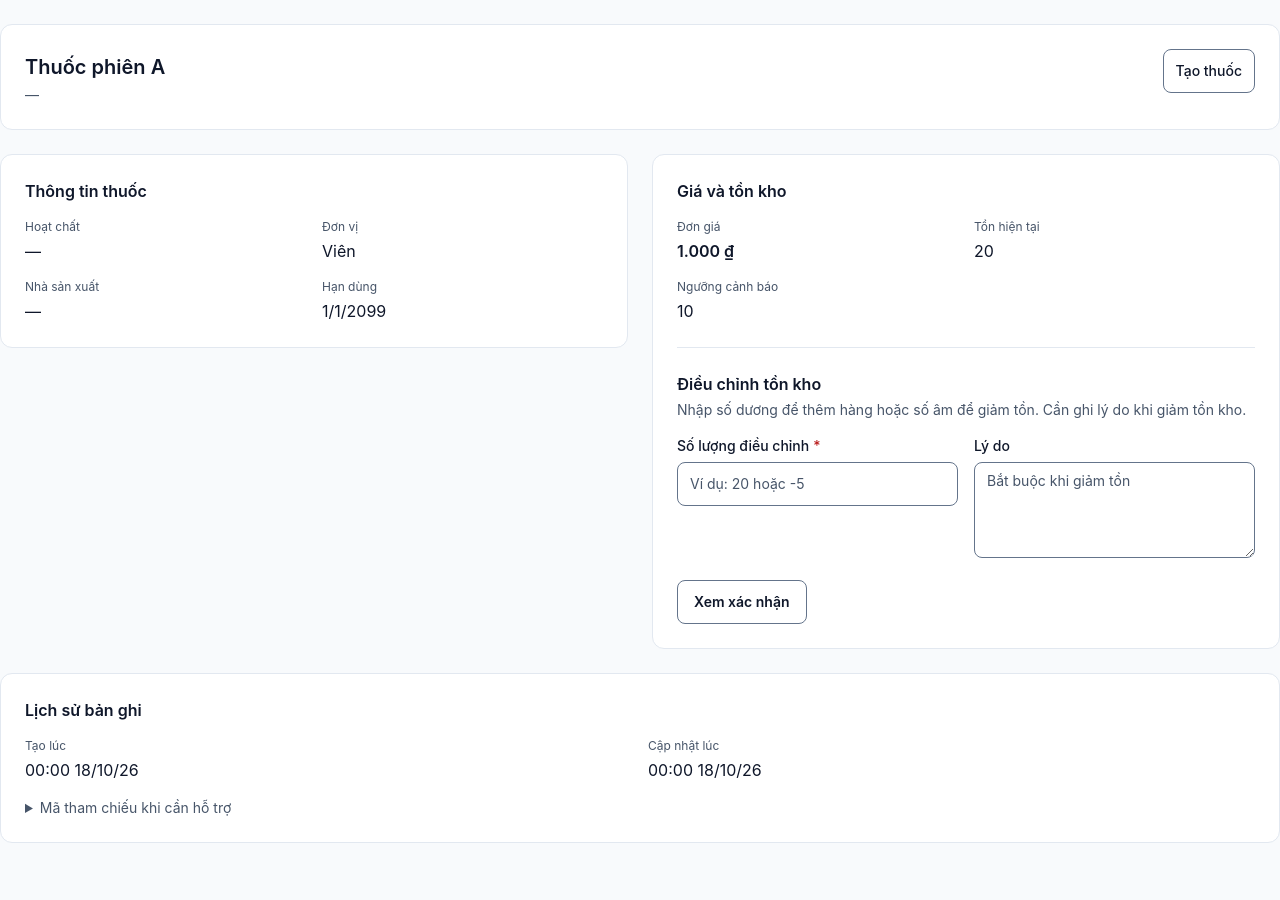
it: Pharmacy session lifecycle › ignores a late uncertain stock failure after the account changes
Expected: the text box labelled "Lý do" is shown, [974,462,1255,558]
Step 1. Type "5" into the number field labelled "Số lượng điều chỉnh" → (818,484), box [677,462,958,506]
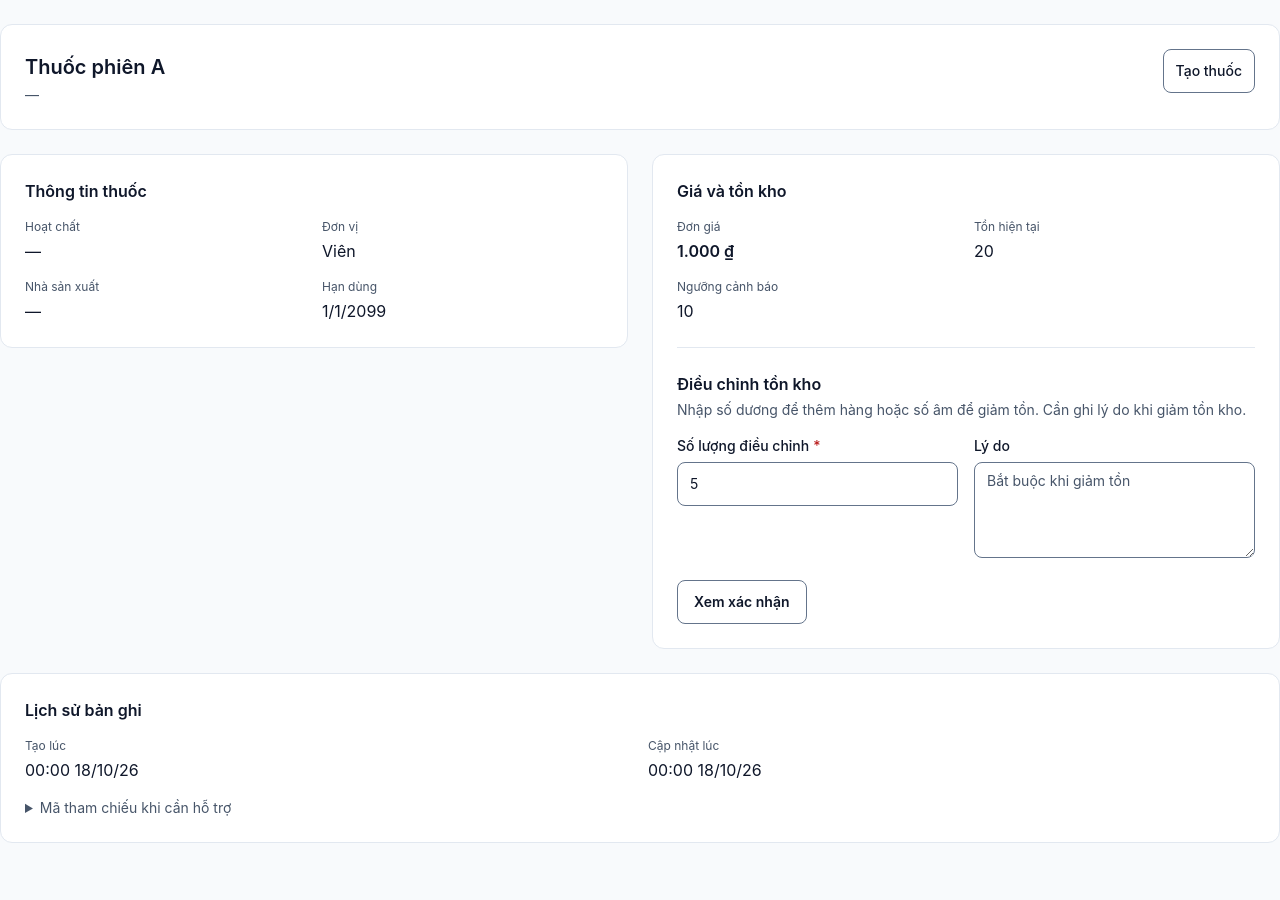
Step 2. Click the button "Xem xác nhận" → (742,602), box [677,580,806,624]
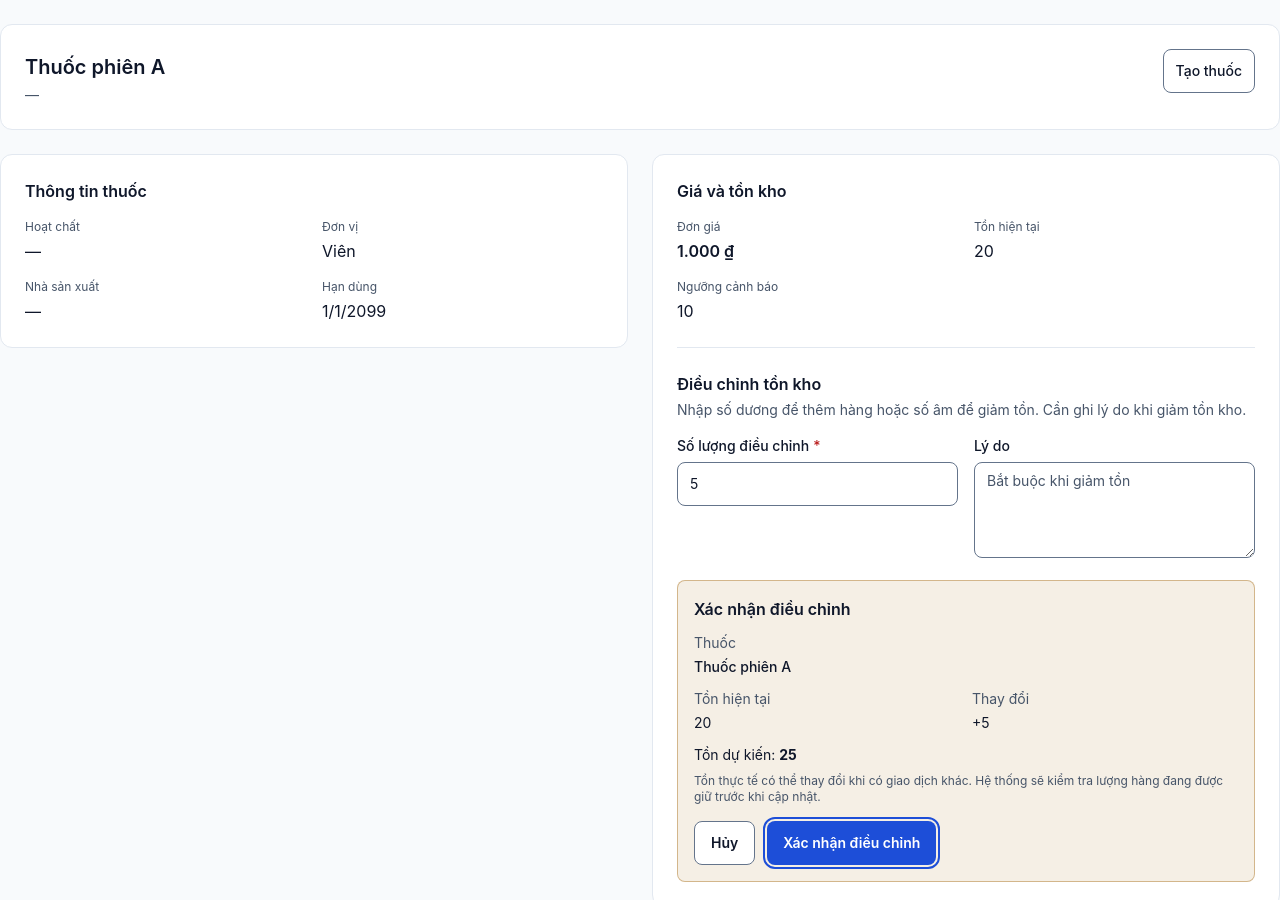
Step 3. Click the button "Xác nhận điều chỉnh" → (852,843), box [767,821,936,865]
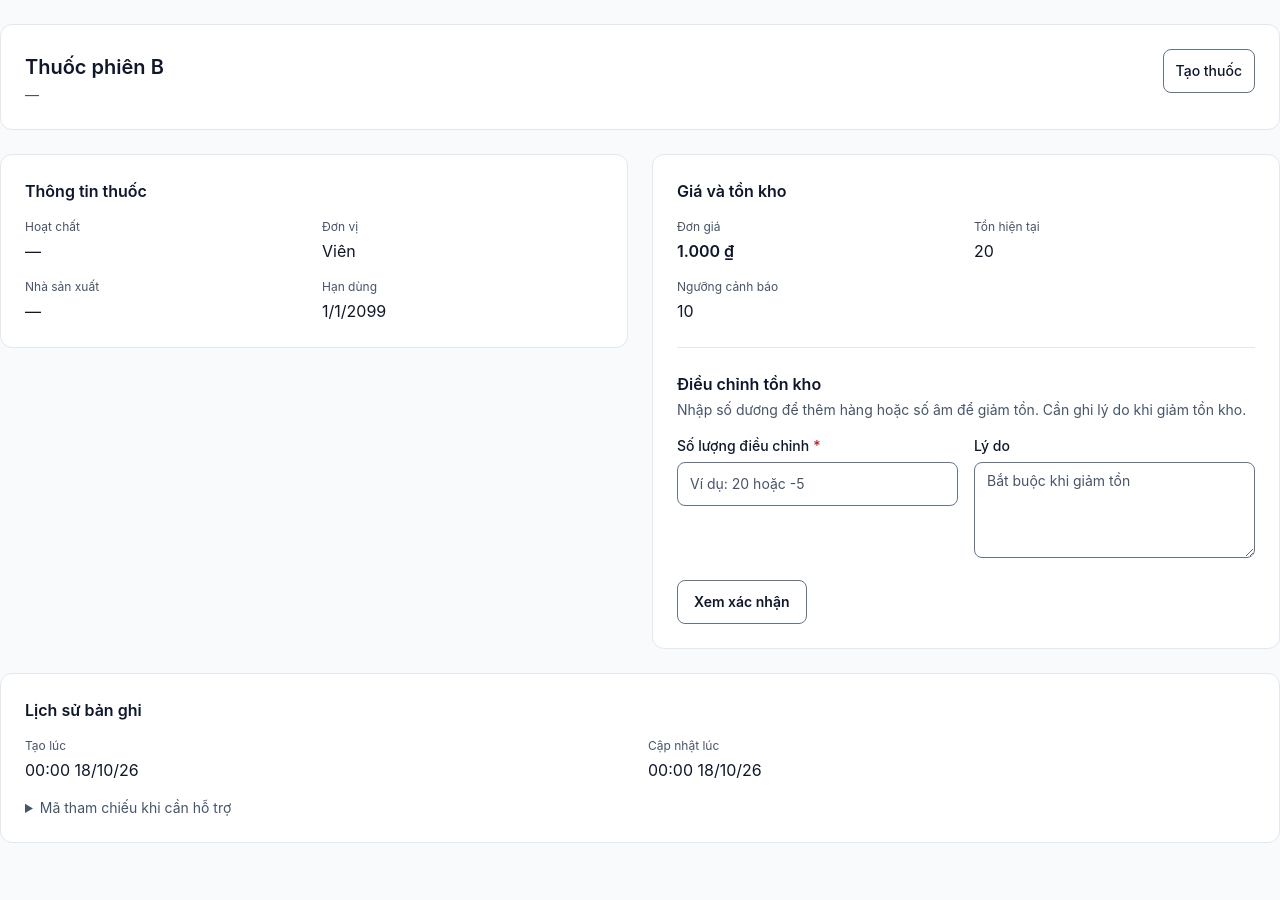
Expected: the text box labelled "Lý do" is enabled, [974,462,1255,558]
Expected: the heading "Thuốc phiên B" is shown, [25,53,164,81]
